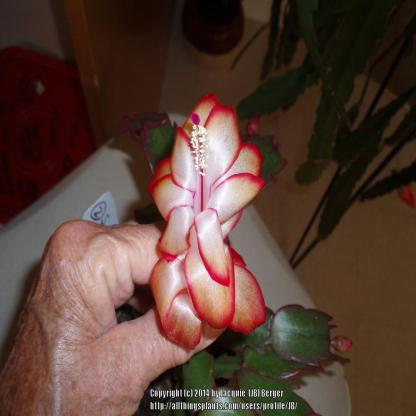Aglonema: (158, 108, 284, 296)
